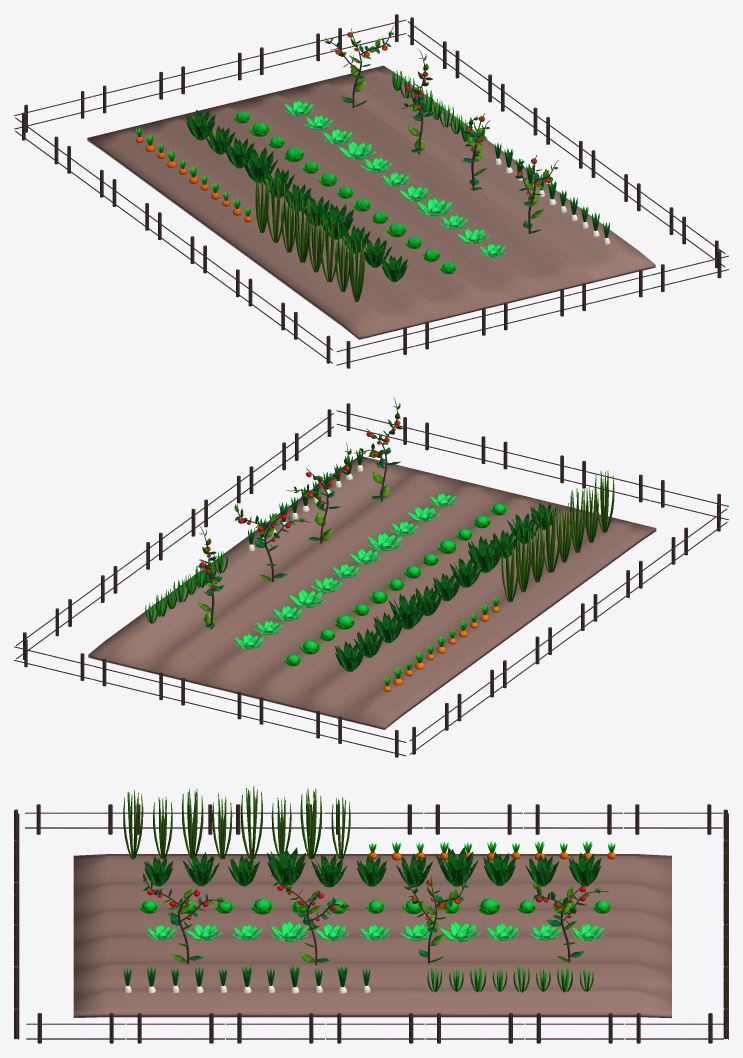
Rendered from farm.fbx.
The picture shows the model from 3 angles, top to bottom: view 1: azimuth 30°, elevation 25°; view 2: azimuth 150°, elevation 25°; view 3: azimuth 270°, elevation 25°; orthographic projection. The views are drawn at different scales.
Parts seen in each view (by area): view 1: soil, fence, spinach, onions, tomato, lettuce, cabbage, turnip, glass, carrot; view 2: soil, fence, spinach, onions, tomato, lettuce, cabbage, glass, turnip, carrot; view 3: soil, fence, spinach, onions, tomato, lettuce, cabbage, turnip, glass, carrot.
Part boxes in pixels (x1,y1,x2,y2): soil: (87, 65, 655, 339); fence: (14, 14, 728, 368); spinach: (186, 109, 407, 282); onions: (255, 176, 364, 302); tomato: (324, 25, 558, 234); lettuce: (284, 100, 505, 257); cabbage: (234, 111, 456, 274); turnip: (494, 143, 610, 244); glass: (392, 70, 472, 141); carrot: (135, 128, 251, 222); soil: (88, 456, 656, 729); fence: (14, 403, 728, 757); spinach: (335, 503, 556, 671); onions: (501, 470, 614, 602); tomato: (197, 397, 403, 629); lettuce: (234, 493, 455, 649); cabbage: (284, 503, 506, 666); glass: (145, 551, 227, 623); turnip: (247, 449, 363, 551); carrot: (383, 598, 499, 691); soil: (73, 854, 671, 1018); fence: (14, 804, 728, 1043); spinach: (144, 846, 601, 887); onions: (123, 786, 350, 859); tomato: (143, 867, 608, 965); lettuce: (147, 921, 603, 942); cabbage: (140, 898, 611, 914); turnip: (123, 965, 370, 993); glass: (427, 966, 593, 992); carrot: (368, 841, 615, 860).
Size of the model in its own units: 729 by 178 by 1041.
